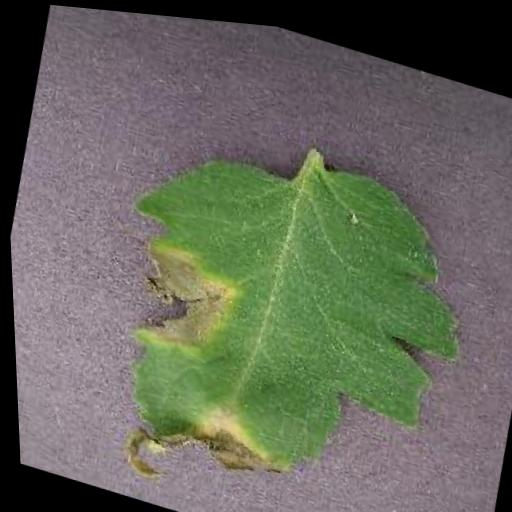Late Blight: (65, 95, 494, 512)
